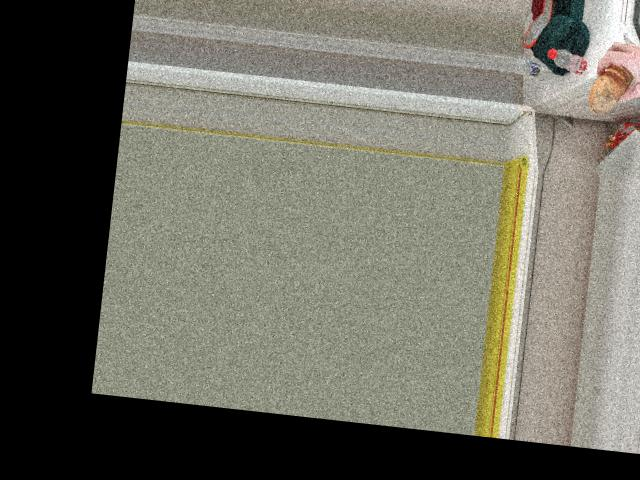sweet_potato: (586, 59, 634, 107)
